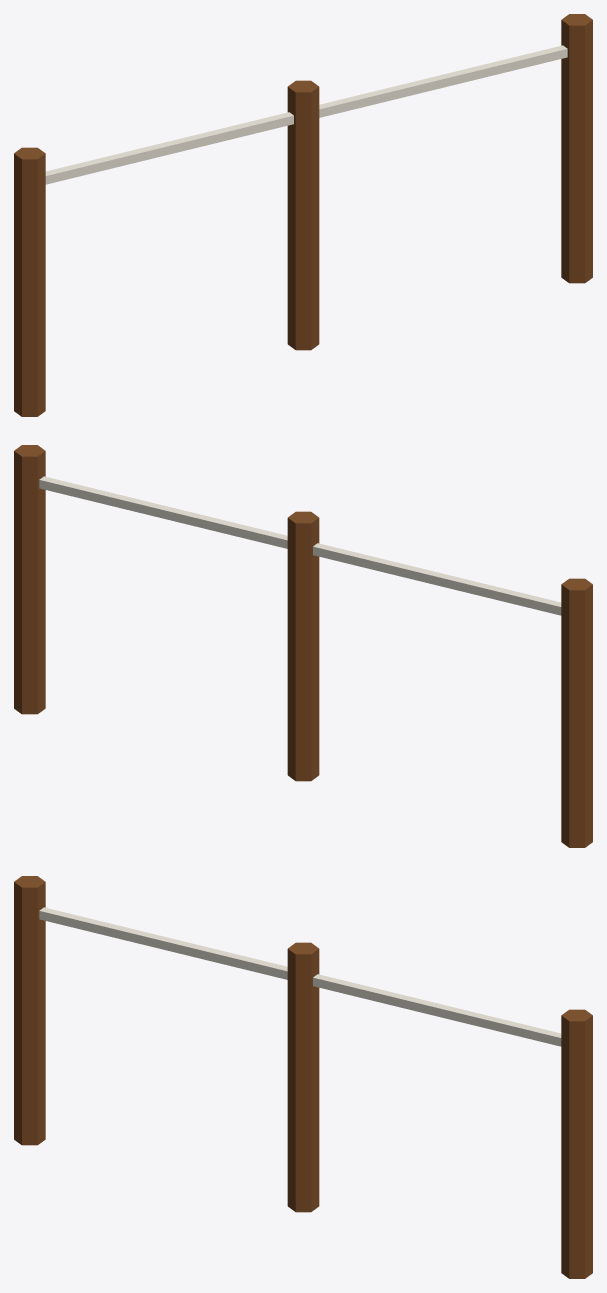
The model's file is rope_fence.glb.
3 renders of one model, top to bottom at view 1: azimuth 30°, elevation 25°; view 2: azimuth 150°, elevation 25°; view 3: azimuth 330°, elevation 25°, orthographic.
Parts seen in each view (by area): view 1: rope_fence; view 2: rope_fence; view 3: rope_fence.
Boxes of the visible parts, x1,y1,x2,y2 form: rope_fence: [14, 14, 592, 416]; rope_fence: [14, 445, 592, 847]; rope_fence: [14, 876, 592, 1278].
Bounding box in the file's own units: 2.09 × 0.9 × 0.1.
